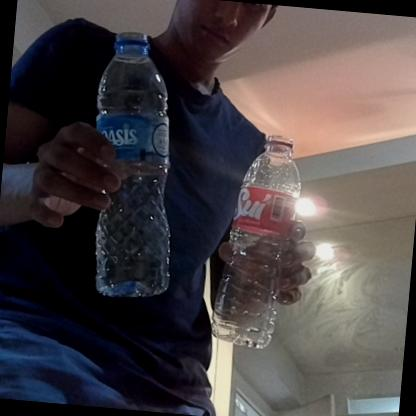plastic_bottles: (82, 28, 193, 304), (206, 132, 306, 352)
